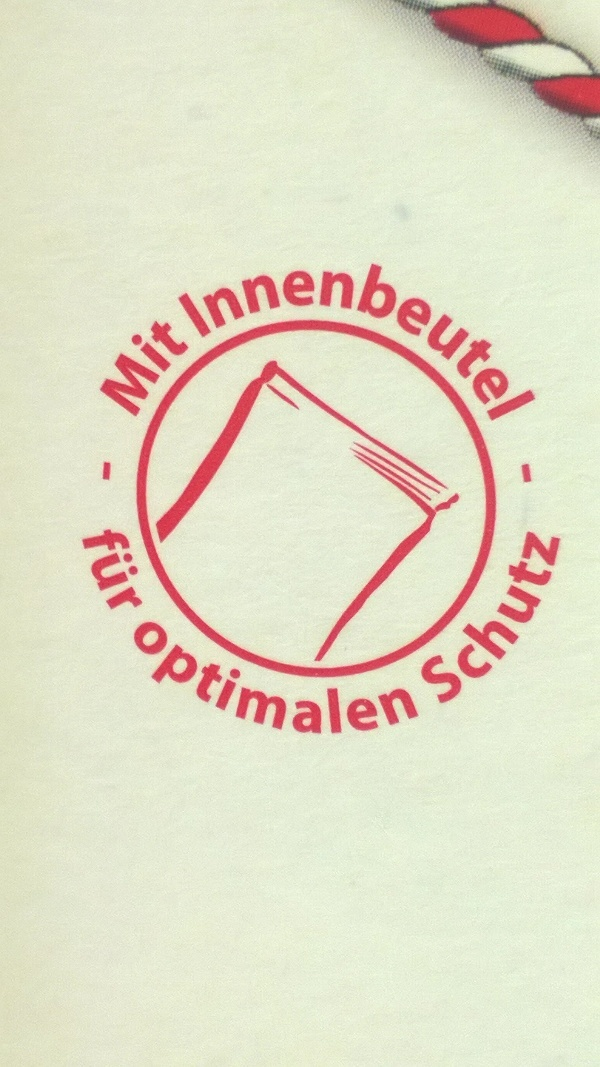text: (433, 519, 448, 731), (449, 519, 464, 731), (465, 519, 480, 731), (481, 519, 496, 731), (497, 519, 512, 731), (513, 519, 528, 731), (529, 519, 544, 731), (545, 519, 560, 731), (177, 244, 192, 442), (193, 244, 208, 442), (209, 244, 224, 442), (225, 244, 240, 442), (241, 244, 256, 442), (257, 244, 272, 442), (273, 244, 288, 442), (289, 244, 304, 442), (305, 244, 320, 442), (321, 244, 336, 442), (337, 244, 352, 442), (353, 244, 368, 442), (369, 244, 384, 442), (385, 244, 400, 442), (401, 244, 416, 442), (417, 244, 432, 442), (433, 244, 448, 442), (449, 244, 464, 442), (465, 244, 480, 442), (481, 244, 496, 442), (497, 244, 512, 442), (513, 244, 528, 442), (529, 244, 544, 442), (418, 519, 432, 731), (561, 519, 574, 731), (145, 617, 160, 783), (161, 617, 176, 783), (177, 617, 192, 783), (193, 617, 208, 783), (209, 617, 224, 783), (225, 617, 240, 783), (241, 617, 256, 783), (257, 617, 272, 783), (273, 617, 288, 783), (289, 617, 304, 783), (305, 617, 320, 783), (321, 617, 336, 783), (337, 617, 352, 783), (353, 617, 368, 783), (369, 617, 384, 783), (385, 617, 400, 783), (401, 617, 416, 783), (545, 244, 557, 442), (133, 617, 144, 783), (113, 303, 128, 422), (129, 303, 144, 422), (145, 303, 160, 422), (161, 303, 176, 422), (99, 303, 112, 422), (177, 303, 190, 422), (81, 518, 96, 619), (97, 518, 112, 619), (113, 518, 128, 619), (129, 518, 144, 619), (171, 244, 176, 442), (417, 617, 421, 783), (78, 518, 80, 619), (145, 518, 147, 619)
